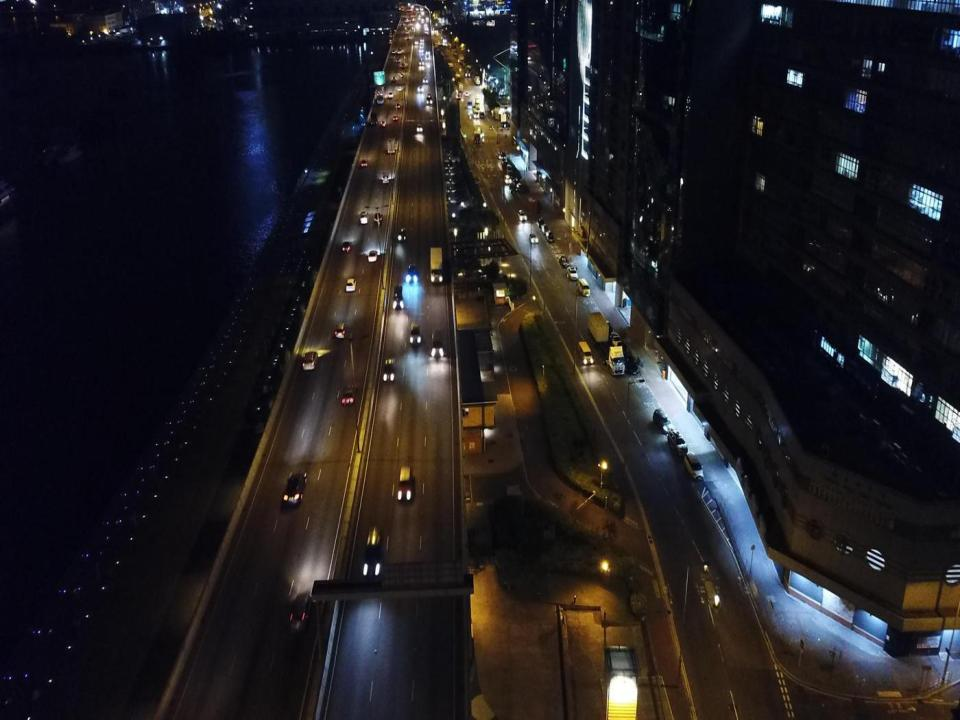bus: (376, 86, 384, 104), (472, 108, 478, 118)
car: (362, 526, 382, 578), (282, 472, 307, 504), (397, 465, 414, 503), (668, 429, 687, 456), (652, 409, 673, 433), (342, 384, 356, 406), (303, 351, 318, 370), (384, 357, 395, 381), (625, 354, 638, 374), (609, 332, 622, 349), (617, 342, 629, 359), (410, 322, 420, 342), (407, 263, 417, 282), (336, 323, 346, 338), (603, 321, 614, 334), (567, 266, 577, 280), (346, 278, 356, 291), (368, 250, 378, 262), (545, 232, 555, 243), (517, 209, 527, 220), (560, 255, 569, 267), (398, 228, 406, 241), (342, 241, 351, 251), (528, 233, 537, 243), (382, 171, 389, 183), (541, 224, 550, 233), (374, 213, 382, 223), (536, 218, 544, 226), (504, 174, 512, 182), (361, 159, 367, 167), (417, 124, 422, 132), (393, 115, 398, 122), (381, 119, 386, 126), (422, 78, 428, 83), (397, 86, 402, 91), (395, 103, 400, 108), (418, 86, 422, 92), (414, 40, 418, 45), (401, 63, 405, 68), (465, 91, 469, 96), (420, 38, 424, 42), (426, 50, 430, 54), (396, 59, 400, 63), (400, 72, 403, 77), (420, 49, 423, 53), (392, 50, 395, 54), (392, 77, 396, 80), (420, 45, 423, 48), (406, 31, 408, 34)
truck: (588, 312, 625, 376), (430, 247, 443, 284), (432, 329, 443, 356), (386, 138, 396, 153), (370, 110, 378, 124), (475, 93, 480, 109), (474, 129, 480, 142), (500, 121, 513, 127), (467, 98, 472, 108), (419, 57, 424, 65), (398, 47, 401, 54), (426, 55, 429, 60)
van: (289, 594, 313, 633), (684, 452, 704, 480), (579, 340, 592, 364), (578, 278, 590, 297), (393, 285, 402, 309), (360, 211, 369, 224), (506, 164, 513, 174), (426, 93, 432, 104), (479, 110, 484, 118), (388, 91, 394, 97)
